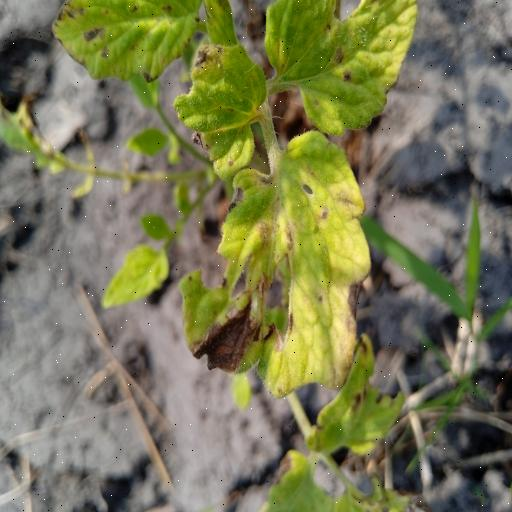Tomato_Brown_Spots: (181, 123, 373, 385)
